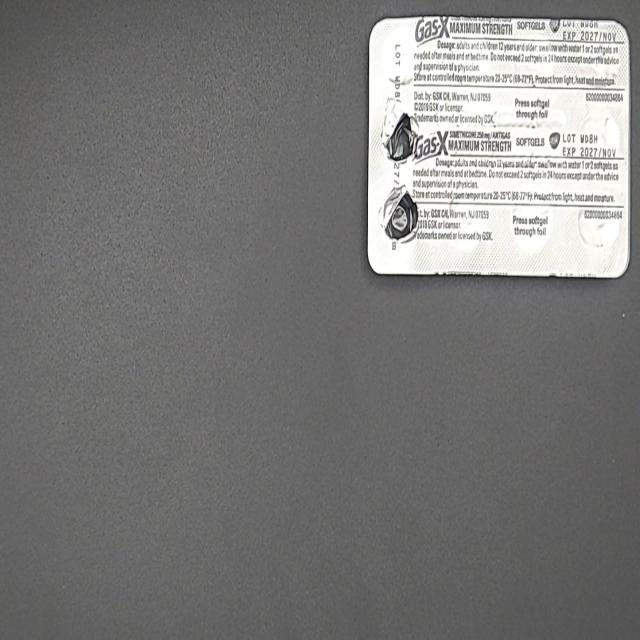defect: (378, 94, 421, 167), (377, 182, 421, 246)
